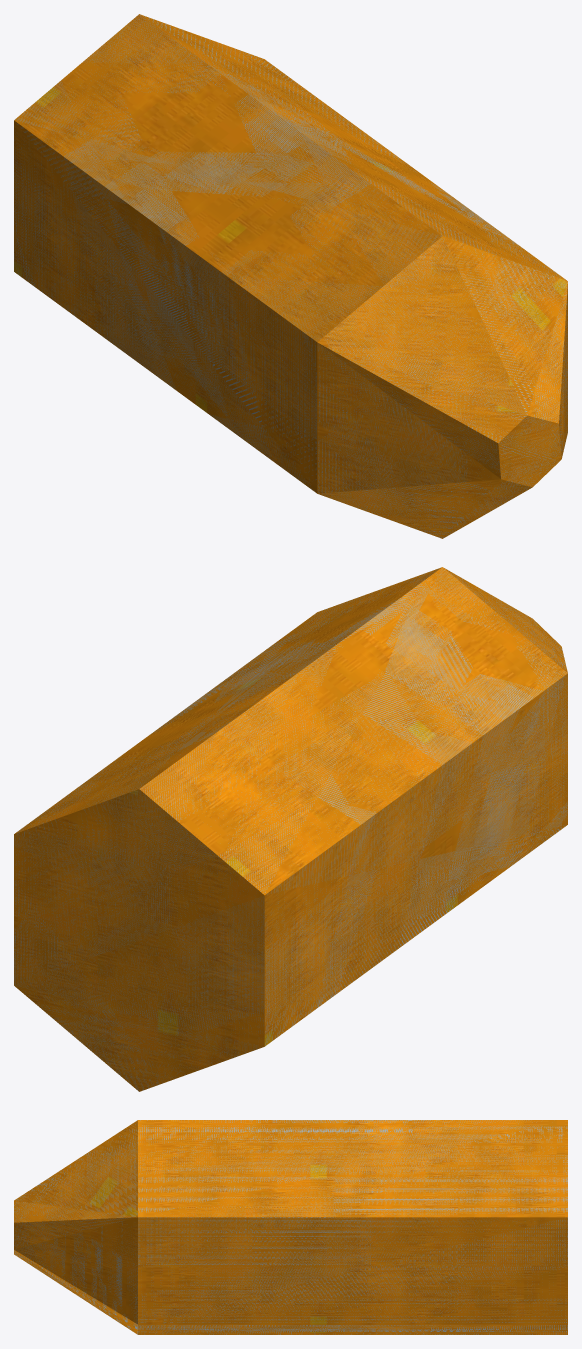
File: shotgunBullet.dae
3 views of the same model, one above another, from view 1: azimuth 30°, elevation 25°; view 2: azimuth 150°, elevation 25°; view 3: azimuth 270°, elevation 25° (orthographic). The views are drawn at different scales.
Parts seen in each view (by area): view 1: SketchUp; view 2: SketchUp; view 3: SketchUp.
Part boxes in pixels (x1,y1,x2,y2): SketchUp: (14,14,567,538); SketchUp: (14,567,567,1091); SketchUp: (14,1120,567,1334).
Bounding box in the file's own units: 42.16 × 114 × 48.69.
2 materials, 1 textured.
